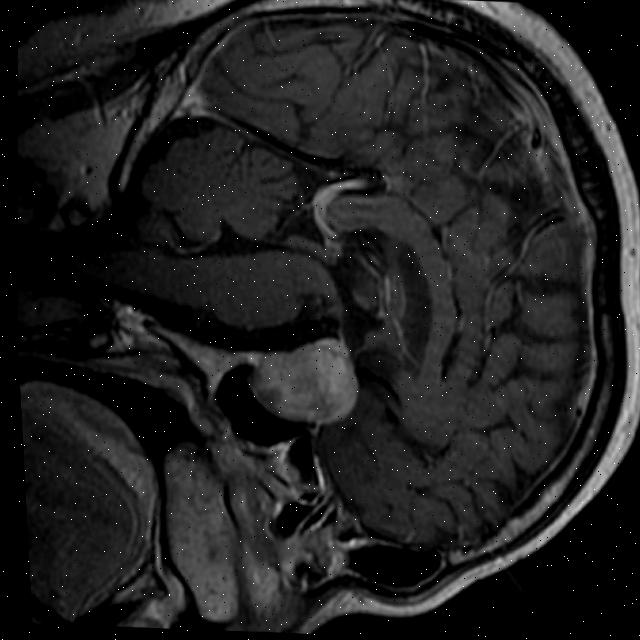Pituitary: (239, 331, 365, 430)
